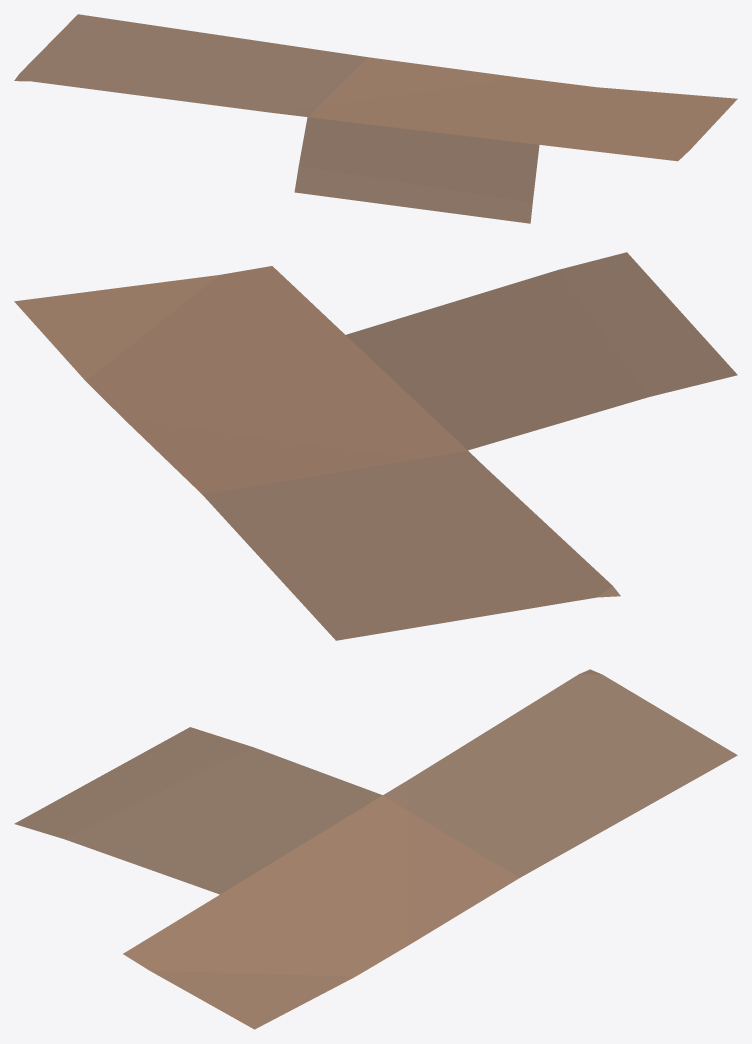
The model's file is farm_25_25_soil.glb.
3 renders of one model, top to bottom at view 1: azimuth 30°, elevation 25°; view 2: azimuth 150°, elevation 25°; view 3: azimuth 270°, elevation 25°, orthographic. The views are drawn at different scales.
Visible parts, largest first — view 1: geometry_0; view 2: geometry_0; view 3: geometry_0.
Part boxes in pixels (bbox=[...]): geometry_0: bbox=[14, 14, 737, 223]; geometry_0: bbox=[14, 252, 737, 640]; geometry_0: bbox=[14, 669, 737, 1029].
Bounding box in the file's own units: 98.25 × 7.74 × 97.26.
